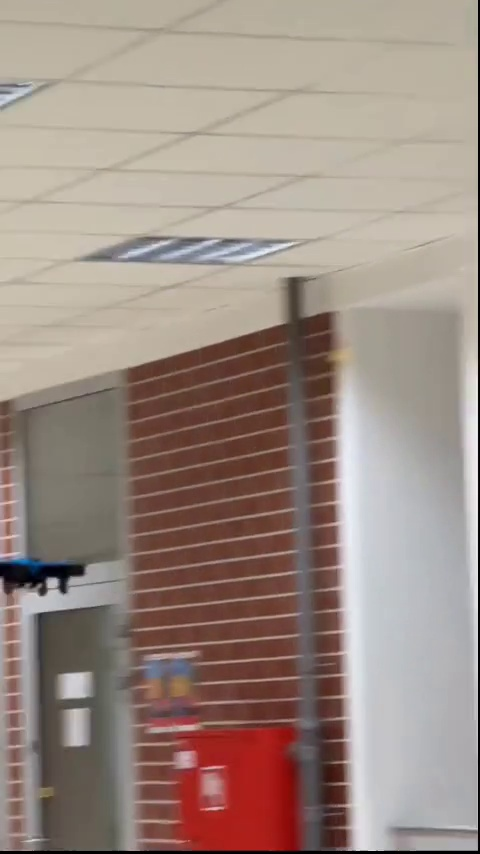drone: (3, 547, 92, 599)
